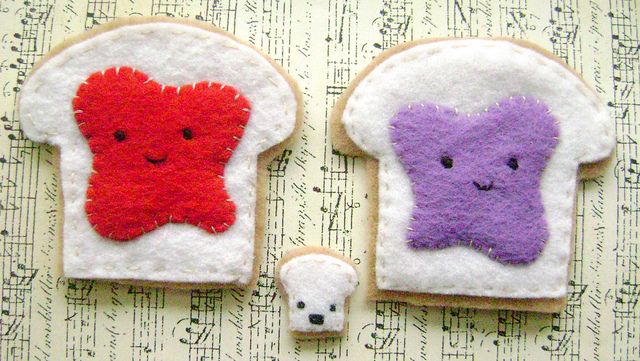slice of bread: (335, 22, 613, 321), (11, 7, 300, 294)
